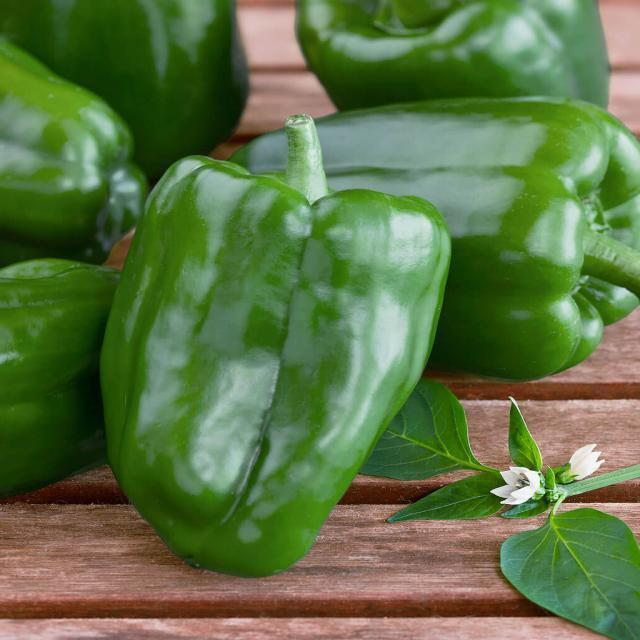Pepper: (98, 157, 452, 579), (315, 96, 640, 384), (0, 33, 139, 268), (0, 258, 120, 503)
